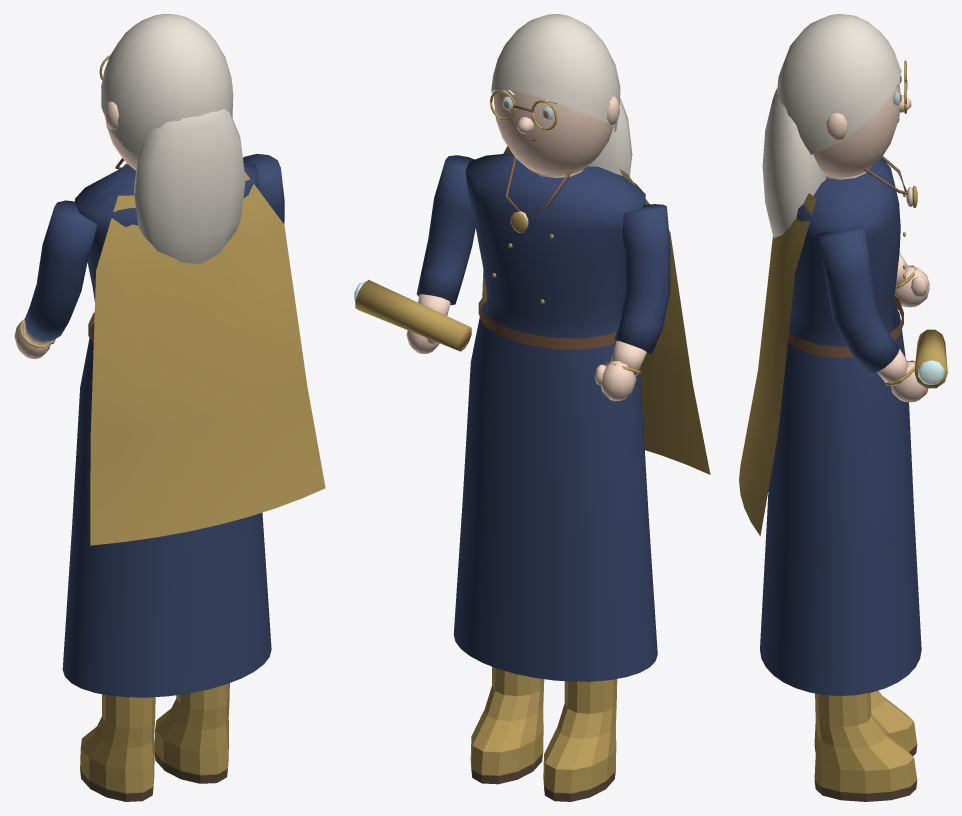
File: SM_NPC_AURORA.glb
3 renders of one model, left to right at view 1: azimuth 30°, elevation 25°; view 2: azimuth 150°, elevation 25°; view 3: azimuth 270°, elevation 25°, orthographic. The views are drawn at different scales.
Parts seen in each view (by area): view 1: SM_NPC_AURORA_BODY, SM_NPC_AURORA_HAIR, SM_NPC_AURORA_ARM_L, SM_NPC_AURORA_LEG_L, SM_NPC_AURORA_LEG_R, SM_NPC_AURORA_ARM_R, SM_NPC_AURORA_HEAD; view 2: SM_NPC_AURORA_BODY, SM_NPC_AURORA_HAIR, SM_NPC_AURORA_ARM_R, SM_NPC_AURORA_ARM_L, SM_NPC_AURORA_LEG_L, SM_NPC_AURORA_HEAD, SM_NPC_AURORA_LEG_R; view 3: SM_NPC_AURORA_BODY, SM_NPC_AURORA_HAIR, SM_NPC_AURORA_ARM_R, SM_NPC_AURORA_LEG_R, SM_NPC_AURORA_HEAD, SM_NPC_AURORA_LEG_L, SM_NPC_AURORA_ARM_L.
Part boxes in pixels (bbox=[...]): SM_NPC_AURORA_BODY: bbox=[62, 158, 325, 697]; SM_NPC_AURORA_HAIR: bbox=[101, 14, 245, 263]; SM_NPC_AURORA_ARM_L: bbox=[14, 200, 96, 358]; SM_NPC_AURORA_LEG_L: bbox=[80, 694, 155, 801]; SM_NPC_AURORA_LEG_R: bbox=[154, 683, 229, 783]; SM_NPC_AURORA_ARM_R: bbox=[243, 154, 284, 223]; SM_NPC_AURORA_HEAD: bbox=[99, 55, 232, 170]; SM_NPC_AURORA_BODY: bbox=[453, 146, 710, 681]; SM_NPC_AURORA_HAIR: bbox=[491, 14, 632, 176]; SM_NPC_AURORA_ARM_R: bbox=[354, 155, 475, 353]; SM_NPC_AURORA_ARM_L: bbox=[594, 204, 670, 401]; SM_NPC_AURORA_LEG_L: bbox=[543, 679, 617, 801]; SM_NPC_AURORA_HEAD: bbox=[490, 89, 619, 175]; SM_NPC_AURORA_LEG_R: bbox=[470, 666, 544, 784]; SM_NPC_AURORA_BODY: bbox=[739, 156, 921, 695]; SM_NPC_AURORA_HAIR: bbox=[762, 14, 901, 238]; SM_NPC_AURORA_ARM_R: bbox=[817, 226, 947, 402]; SM_NPC_AURORA_LEG_R: bbox=[814, 692, 917, 801]; SM_NPC_AURORA_HEAD: bbox=[813, 60, 911, 177]; SM_NPC_AURORA_LEG_L: bbox=[814, 690, 917, 755]; SM_NPC_AURORA_ARM_L: bbox=[894, 252, 929, 307].
Size of the model in its own units: 0.6901 by 1.81 by 0.4561.
